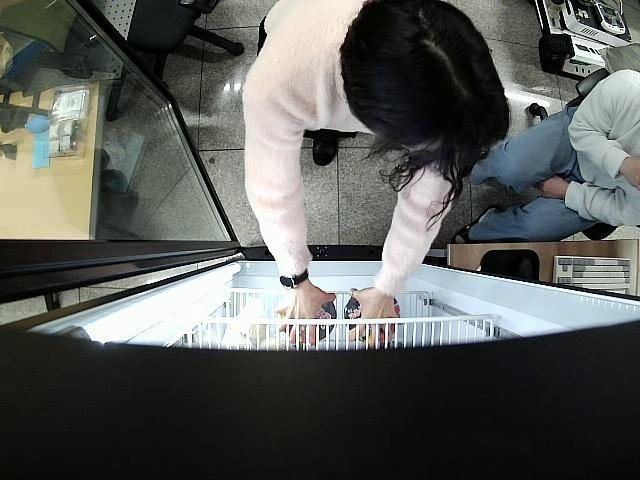07_buldak_L: (345, 286, 402, 346), (280, 299, 338, 346)
